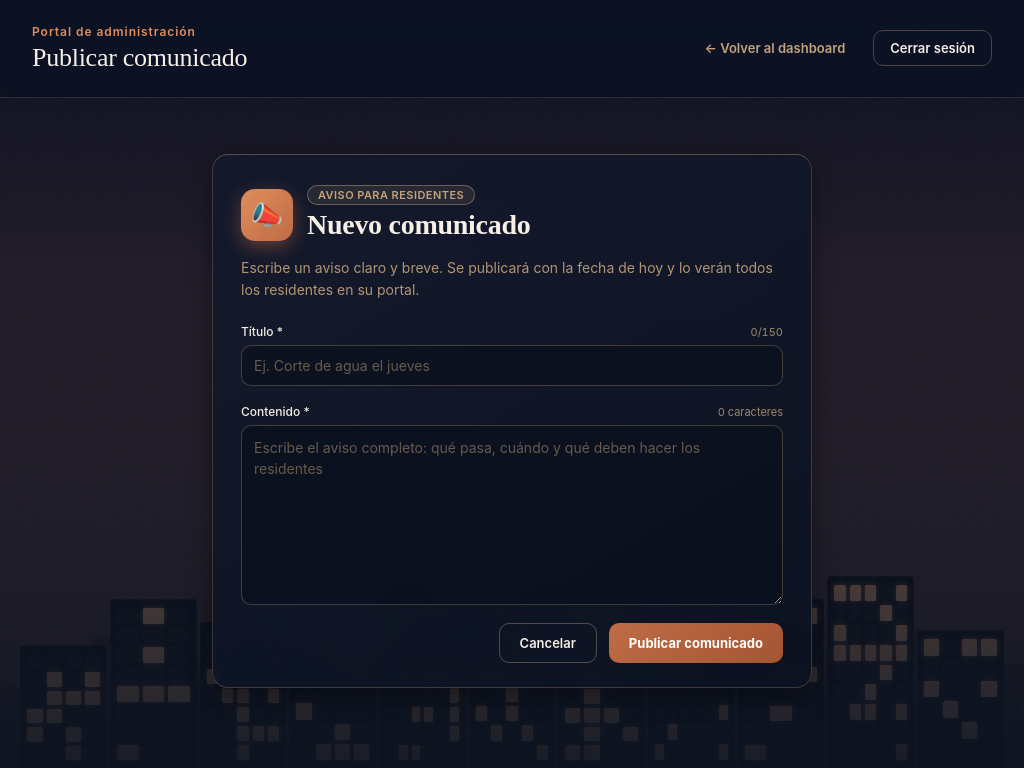
CU-10 PublicarComunicadoPage › el error de un campo desaparece al corregirlo
The image size is (1024, 768).
Click the button "Publicar comunicado" at (696, 643), box [609,623,783,663]
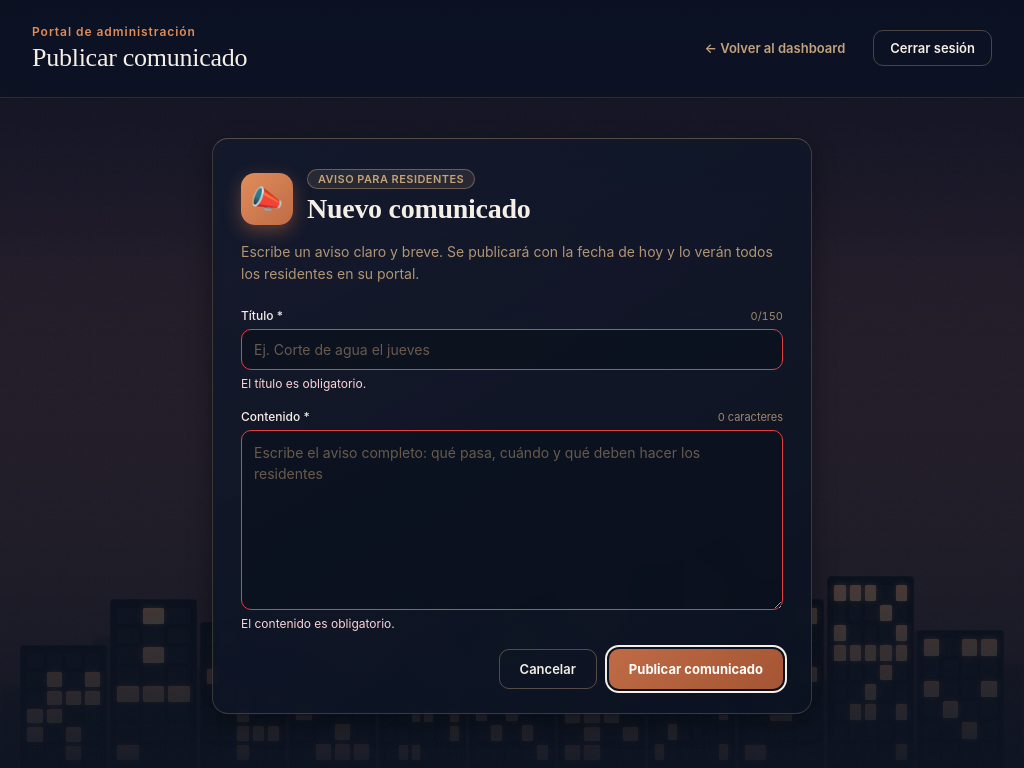
Type "A" into the field labelled "Título *" at (512, 350), box [241,330,783,370]
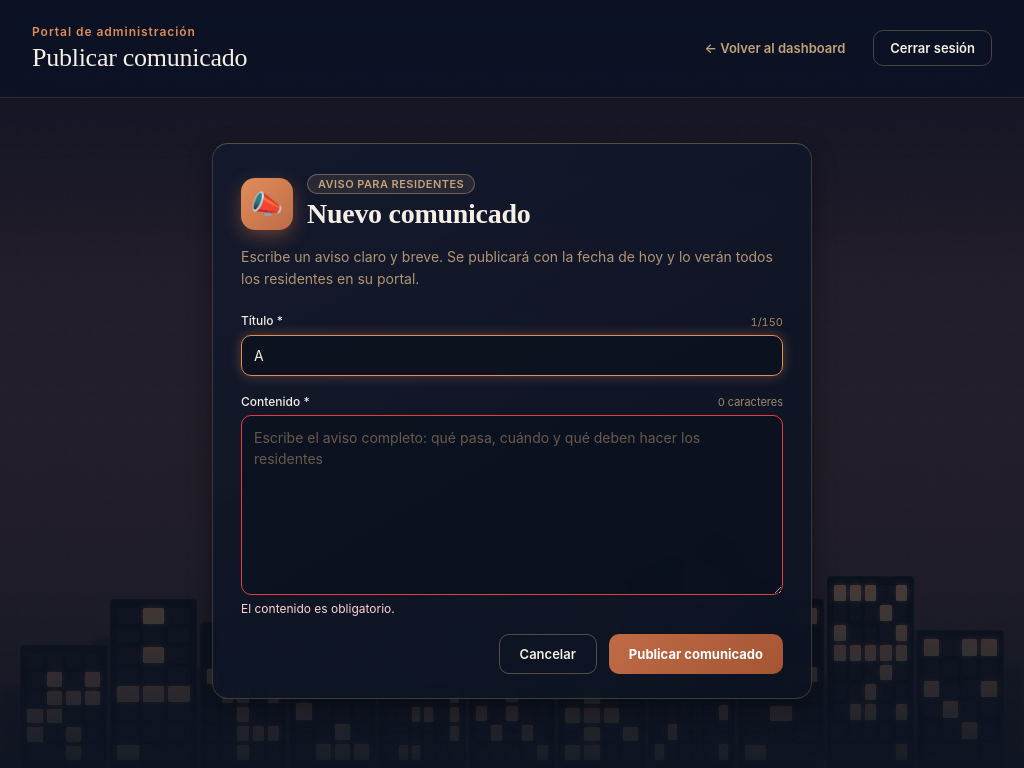
Now the text "El contenido es obligatorio." is shown, box [241,601,395,616]
Now the text "El título es obligatorio." is gone
